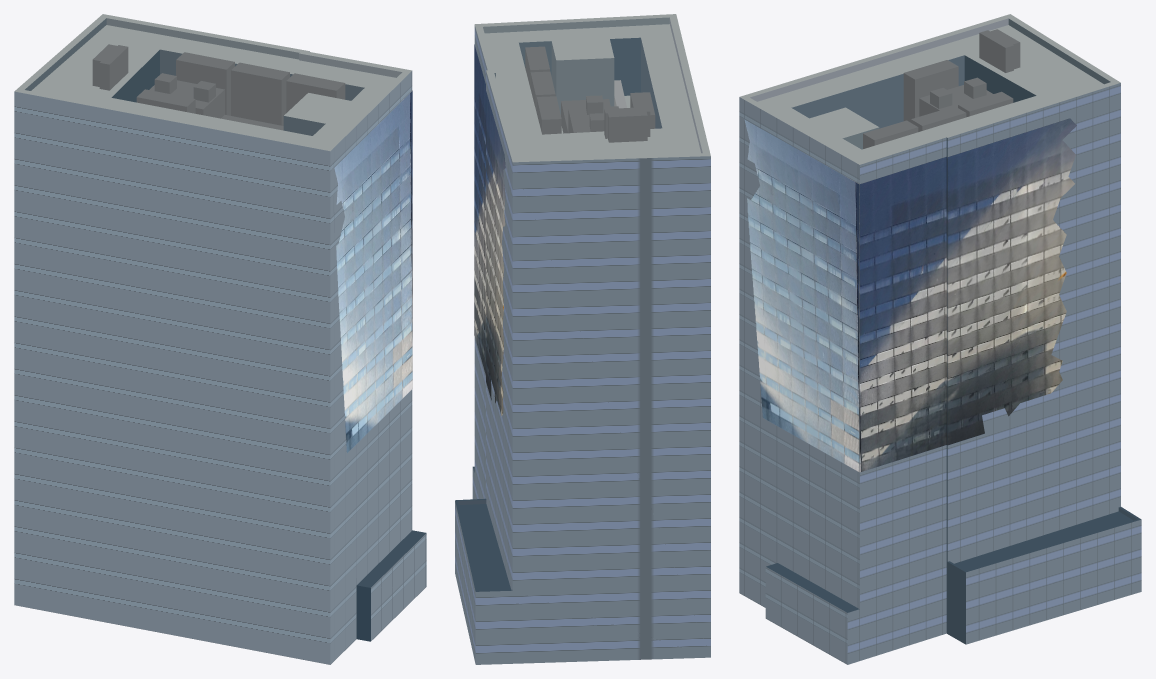
Rendered from shinjuku-mitsui-no2-southeast-raw.glb.
3 views of the same model, side by side, from view 1: azimuth 30°, elevation 25°; view 2: azimuth 150°, elevation 25°; view 3: azimuth 270°, elevation 25° (orthographic). The views are drawn at different scales.
Parts seen in each view (by area): view 1: base-poly-4f7a8af7-de38-4f66-b947-091094f48250, observed-poly-41d9f760-7633-42d7-b266-e70a0cab7342, base-poly-41d9f760-7633-42d7-b266-e70a0cab7342, base-poly-498341f8-9f05-4620-9125-95e9792914b1, base-poly-f915b166-3b5e-43f0-b6ee-a71786a93f44, base-poly-6ba1b4fd-eb52-4e66-baca-692e136916cd, base-fme-gen-7607814d-7cd4-4f05-99d3-5beabc5983e7, base-poly-5d38a921-39f6-4272-96cc-eff12776a498, base-poly-37e15c87-7f13-47eb-8ce2-b513c00e3716, base-poly-e0420d55-75c2-40ce-8585-e11480a2204d, base-poly-b824faf9-97c6-4cb6-bbbf-a92f9c897a89, base-fme-gen-e2414ea3-c050-45bf-a749-cc3db8a07065 (+7 smaller); view 2: base-poly-8f6b1851-5649-4a31-9acd-ad50a79a2422, base-poly-498341f8-9f05-4620-9125-95e9792914b1, base-poly-8acbeef3-2647-45e4-9116-8a96c1fd851a, observed-poly-8acbeef3-2647-45e4-9116-8a96c1fd851a, observed-poly-e4fcd0b8-3915-4c3e-a8e9-8ce734546d3d, base-poly-f915b166-3b5e-43f0-b6ee-a71786a93f44, base-poly-b28106b4-e88d-4895-b02f-3446250e4307, base-poly-4421ca29-12b9-4cac-96c3-e0a85e705bf6, base-poly-e4fcd0b8-3915-4c3e-a8e9-8ce734546d3d, base-poly-18515a0b-18e2-4198-b722-383670561f31, base-poly-06e9e0d1-0fc0-4be2-9a68-c0bdb22e2852, base-poly-2a41b152-55cb-4410-8c70-79c26ef99060 (+7 smaller); view 3: base-poly-8acbeef3-2647-45e4-9116-8a96c1fd851a, observed-poly-8acbeef3-2647-45e4-9116-8a96c1fd851a, observed-poly-41d9f760-7633-42d7-b266-e70a0cab7342, observed-poly-e4fcd0b8-3915-4c3e-a8e9-8ce734546d3d, base-poly-41d9f760-7633-42d7-b266-e70a0cab7342, base-poly-e4fcd0b8-3915-4c3e-a8e9-8ce734546d3d, base-poly-18515a0b-18e2-4198-b722-383670561f31, base-poly-498341f8-9f05-4620-9125-95e9792914b1, base-poly-6ba1b4fd-eb52-4e66-baca-692e136916cd, base-poly-408f2a03-7cf0-4233-bbf9-61597cfd9629, base-poly-b28106b4-e88d-4895-b02f-3446250e4307, base-poly-3519d115-dc78-4c6e-af6f-8ff0772a50f2 (+10 smaller).
Boxes of the visible parts, x1,y1,x2,y2 form: base-poly-4f7a8af7-de38-4f66-b947-091094f48250: [14, 91, 330, 664]; observed-poly-41d9f760-7633-42d7-b266-e70a0cab7342: [334, 91, 412, 452]; base-poly-41d9f760-7633-42d7-b266-e70a0cab7342: [330, 71, 412, 664]; base-poly-498341f8-9f05-4620-9125-95e9792914b1: [31, 25, 395, 146]; base-poly-f915b166-3b5e-43f0-b6ee-a71786a93f44: [160, 37, 377, 87]; base-poly-6ba1b4fd-eb52-4e66-baca-692e136916cd: [371, 533, 426, 640]; base-fme-gen-7607814d-7cd4-4f05-99d3-5beabc5983e7: [231, 70, 281, 125]; base-poly-5d38a921-39f6-4272-96cc-eff12776a498: [106, 18, 299, 59]; base-poly-37e15c87-7f13-47eb-8ce2-b513c00e3716: [14, 90, 329, 150]; base-poly-e0420d55-75c2-40ce-8585-e11480a2204d: [111, 50, 159, 102]; base-poly-b824faf9-97c6-4cb6-bbbf-a92f9c897a89: [357, 530, 425, 587]; base-fme-gen-e2414ea3-c050-45bf-a749-cc3db8a07065: [231, 70, 267, 122]; base-poly-8f6b1851-5649-4a31-9acd-ad50a79a2422: [475, 156, 710, 664]; base-poly-498341f8-9f05-4620-9125-95e9792914b1: [484, 24, 700, 158]; base-poly-8acbeef3-2647-45e4-9116-8a96c1fd851a: [486, 71, 512, 589]; observed-poly-8acbeef3-2647-45e4-9116-8a96c1fd851a: [486, 91, 505, 415]; observed-poly-e4fcd0b8-3915-4c3e-a8e9-8ce734546d3d: [474, 44, 485, 374]; base-poly-f915b166-3b5e-43f0-b6ee-a71786a93f44: [488, 42, 541, 135]; base-poly-b28106b4-e88d-4895-b02f-3446250e4307: [459, 504, 510, 590]; base-poly-4421ca29-12b9-4cac-96c3-e0a85e705bf6: [556, 58, 614, 114]; base-poly-e4fcd0b8-3915-4c3e-a8e9-8ce734546d3d: [472, 25, 487, 499]; base-poly-18515a0b-18e2-4198-b722-383670561f31: [455, 501, 475, 663]; base-poly-06e9e0d1-0fc0-4be2-9a68-c0bdb22e2852: [610, 37, 640, 95]; base-poly-2a41b152-55cb-4410-8c70-79c26ef99060: [483, 17, 669, 33]; base-poly-8acbeef3-2647-45e4-9116-8a96c1fd851a: [947, 83, 1120, 563]; observed-poly-8acbeef3-2647-45e4-9116-8a96c1fd851a: [947, 118, 1076, 445]; observed-poly-41d9f760-7633-42d7-b266-e70a0cab7342: [744, 119, 859, 471]; observed-poly-e4fcd0b8-3915-4c3e-a8e9-8ce734546d3d: [859, 157, 946, 472]; base-poly-41d9f760-7633-42d7-b266-e70a0cab7342: [739, 97, 859, 608]; base-poly-e4fcd0b8-3915-4c3e-a8e9-8ce734546d3d: [847, 137, 946, 664]; base-poly-18515a0b-18e2-4198-b722-383670561f31: [966, 519, 1141, 644]; base-poly-498341f8-9f05-4620-9125-95e9792914b1: [757, 25, 1103, 160]; base-poly-6ba1b4fd-eb52-4e66-baca-692e136916cd: [765, 567, 847, 664]; base-poly-408f2a03-7cf0-4233-bbf9-61597cfd9629: [791, 55, 964, 128]; base-poly-b28106b4-e88d-4895-b02f-3446250e4307: [954, 511, 1133, 570]; base-poly-3519d115-dc78-4c6e-af6f-8ff0772a50f2: [946, 137, 965, 644].
Bounding box in the file's own units: 50.72 × 78.69 × 55.74.
30 materials, 4 textured.
